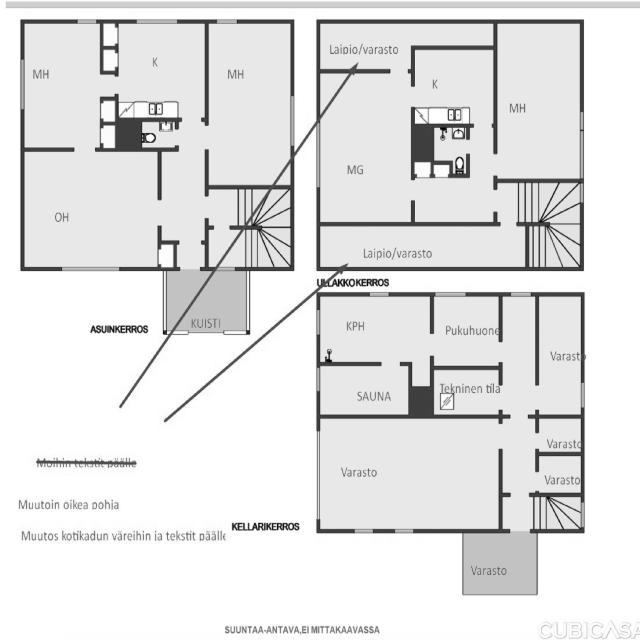door: (318, 414, 500, 526), (23, 151, 159, 268), (317, 68, 413, 226), (208, 19, 288, 191), (497, 27, 582, 181), (21, 21, 112, 149), (115, 23, 207, 124), (313, 294, 430, 363), (416, 51, 498, 129), (534, 293, 584, 413), (431, 291, 500, 362), (312, 363, 402, 414), (435, 364, 506, 413), (534, 413, 583, 453), (435, 124, 468, 178), (537, 458, 588, 491), (131, 117, 172, 151)
window: (575, 110, 588, 210), (310, 116, 326, 191), (313, 428, 326, 520), (354, 524, 418, 541), (13, 48, 28, 110), (208, 262, 244, 277), (289, 93, 297, 150), (59, 267, 134, 273), (134, 14, 176, 24), (576, 379, 590, 409), (435, 288, 464, 298), (216, 17, 248, 26), (312, 309, 321, 338), (578, 503, 586, 527), (366, 292, 391, 298), (76, 18, 94, 25), (510, 291, 527, 298)
